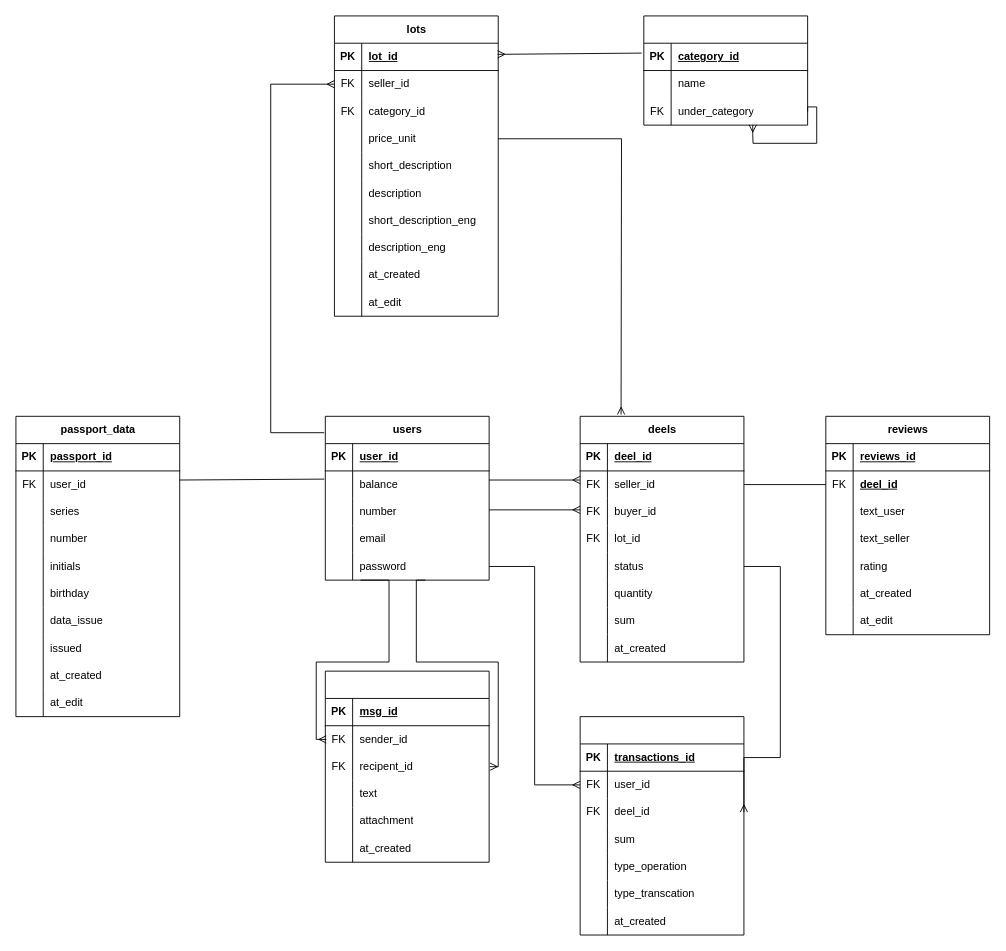
The diagram is 1006 pixels wide and 951 high, and some of its shapes have lost their labels. The box of each missing label's shape, as (x1, y1, x2, y2) in pixels:
categorys: (643, 15, 808, 125)
fifnacial_transactions: (579, 716, 744, 935)
messages: (324, 670, 489, 862)
